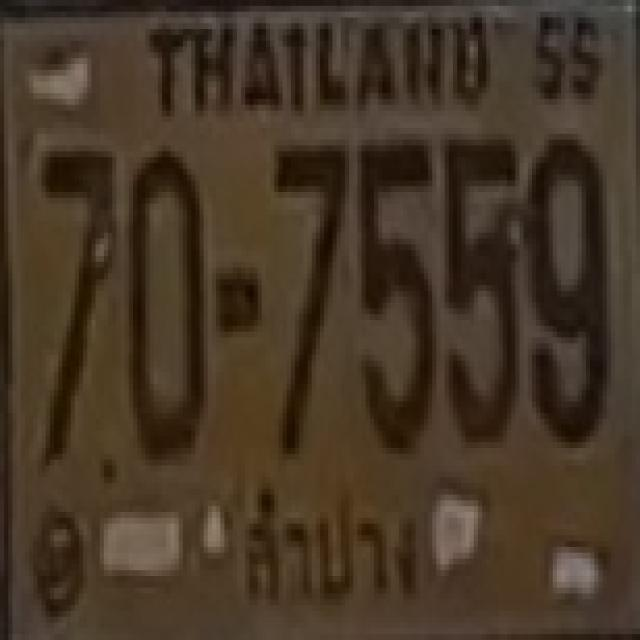0: (124, 145, 203, 454)
5: (358, 137, 432, 445), (440, 134, 516, 430)
7: (32, 145, 112, 473), (270, 140, 345, 436)
9: (524, 134, 606, 436)
LPG: (230, 464, 432, 616)
